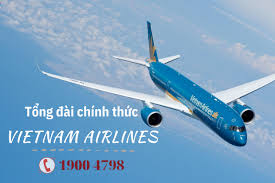maybay_dansu: (36, 24, 275, 144)
